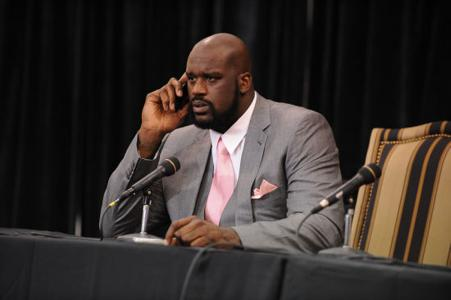person: (98, 34, 346, 256)
